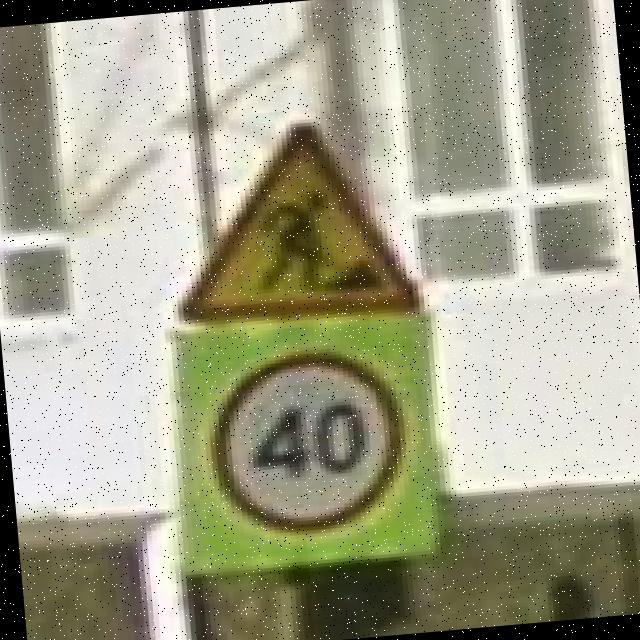Ograniczenie predkosci do 40: (203, 346, 412, 538)
